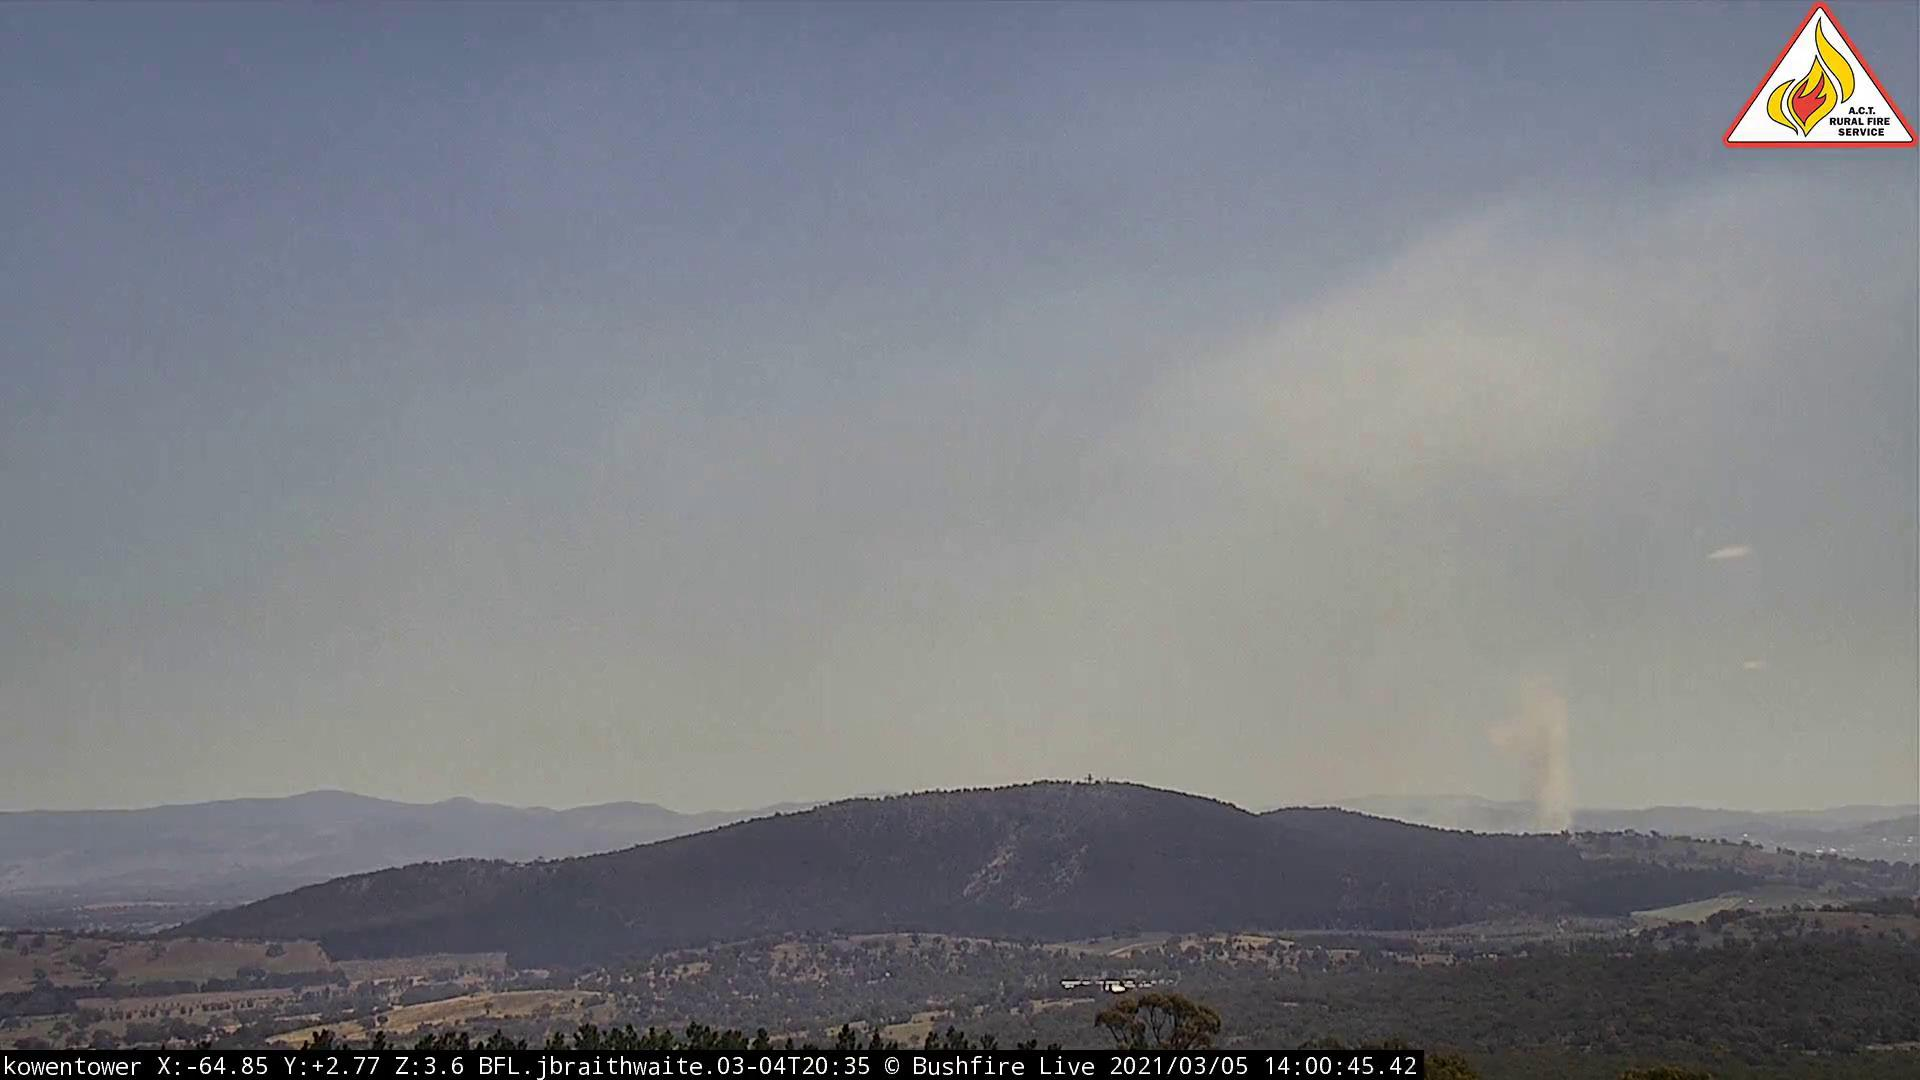Smoke: (1486, 676, 1601, 845)
